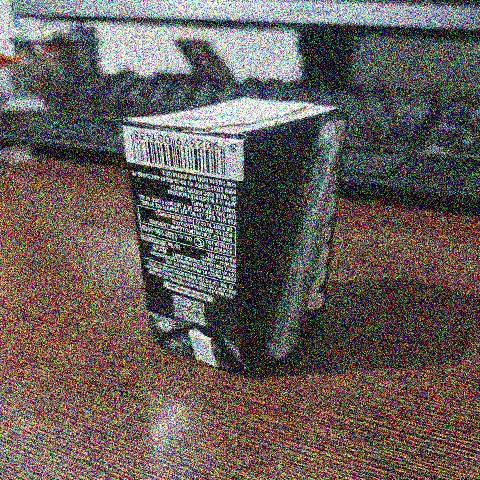appy: (98, 75, 359, 378)
